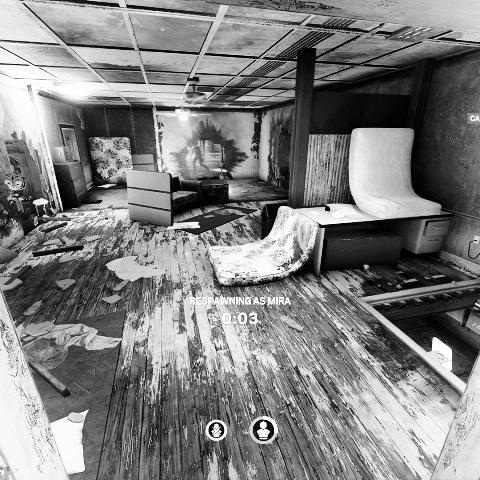Character: (191, 144, 210, 172)
Head: (192, 145, 196, 147)
